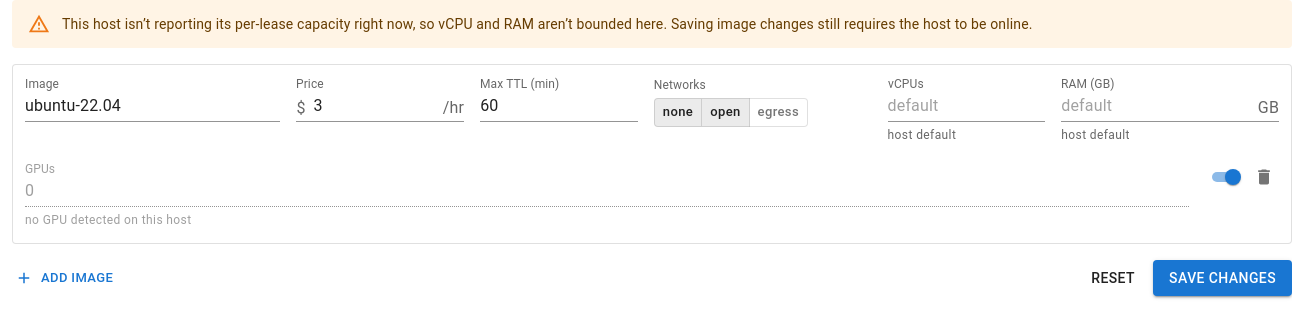
Test: HostImagesEditor › blocks saving a non-positive vCPU count
The image size is (1304, 316).
Type "0" into the number field named "vcpus for ubuntu-22.04" at (966, 108), box [888,93,1045,122]
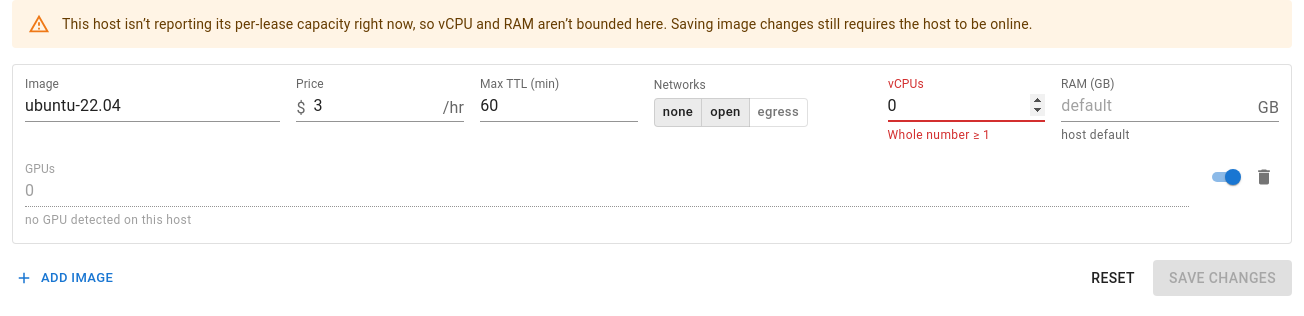
expect the text "Whole number ≥ 1" is shown: met, box [888,128,990,142]
expect the button "Save changes" is disabled: met, box [1153,260,1292,296]
